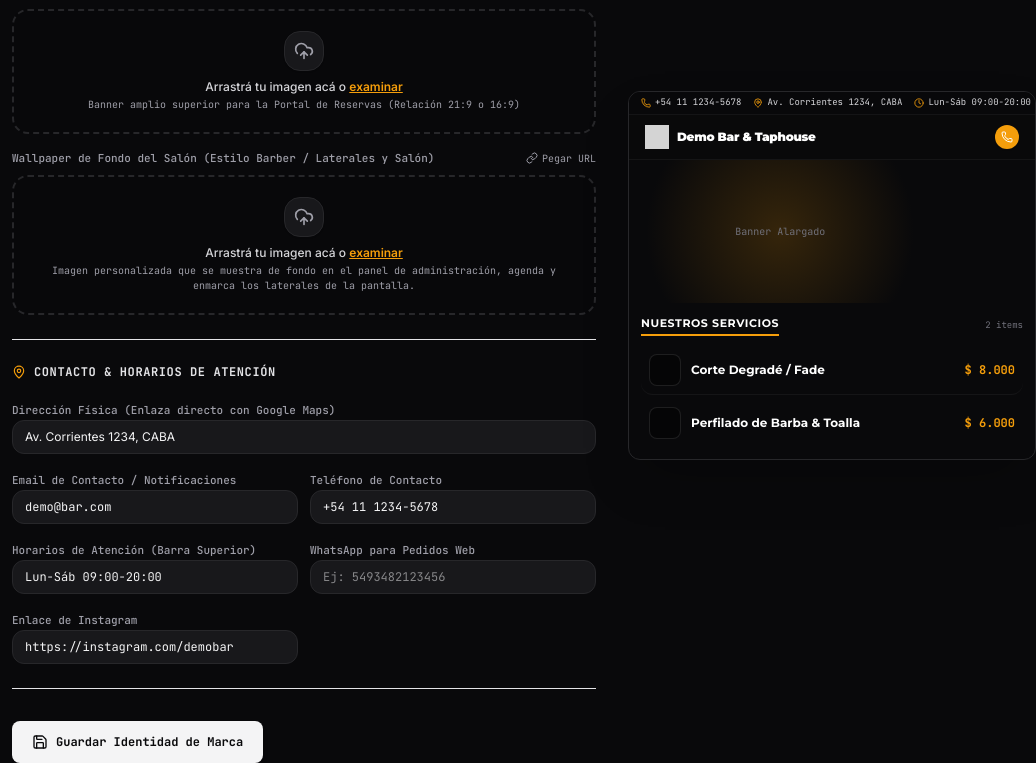
Test: TenantBrandingSettingsView Component › Permite guardar los cambios de identidad
(page scrolled)
Click the button "Guardar Identidad de Marca" at (138, 742), box [12,720,263,762]
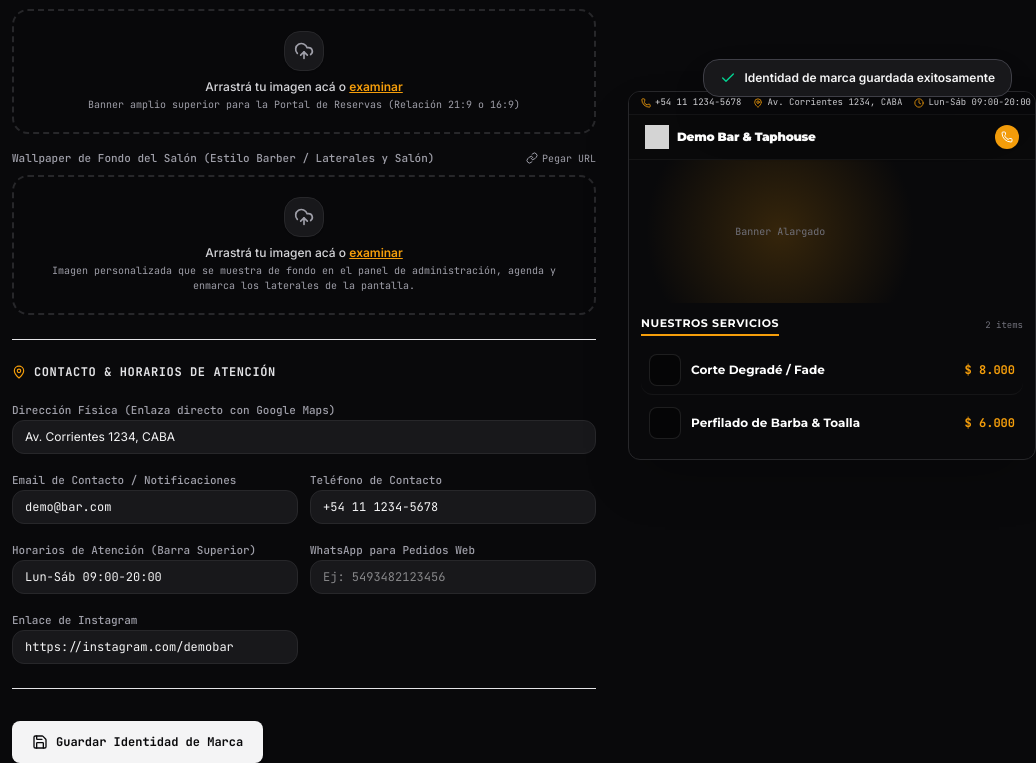
Now the text "Identidad de marca guardada exitosamente" is shown, box [744,70,995,86]
